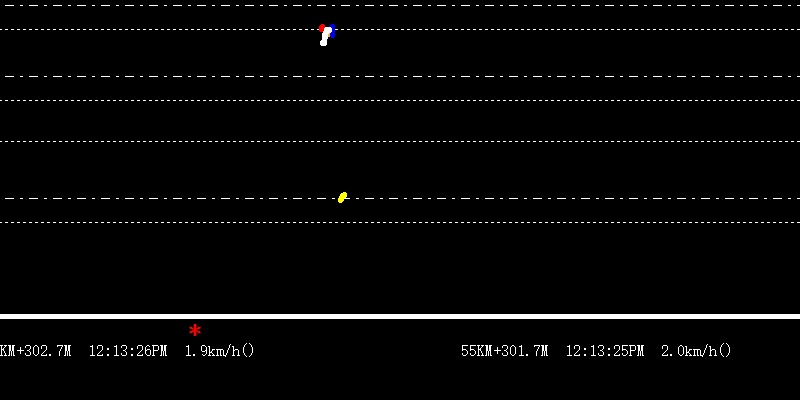face_2: (319, 25, 336, 47)
star: (188, 320, 203, 341)
